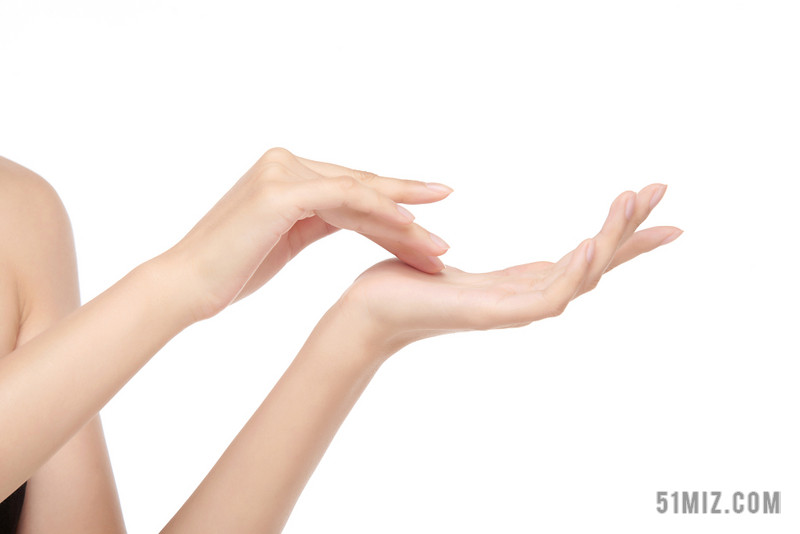no-phone: (344, 183, 725, 347), (152, 124, 470, 316)
